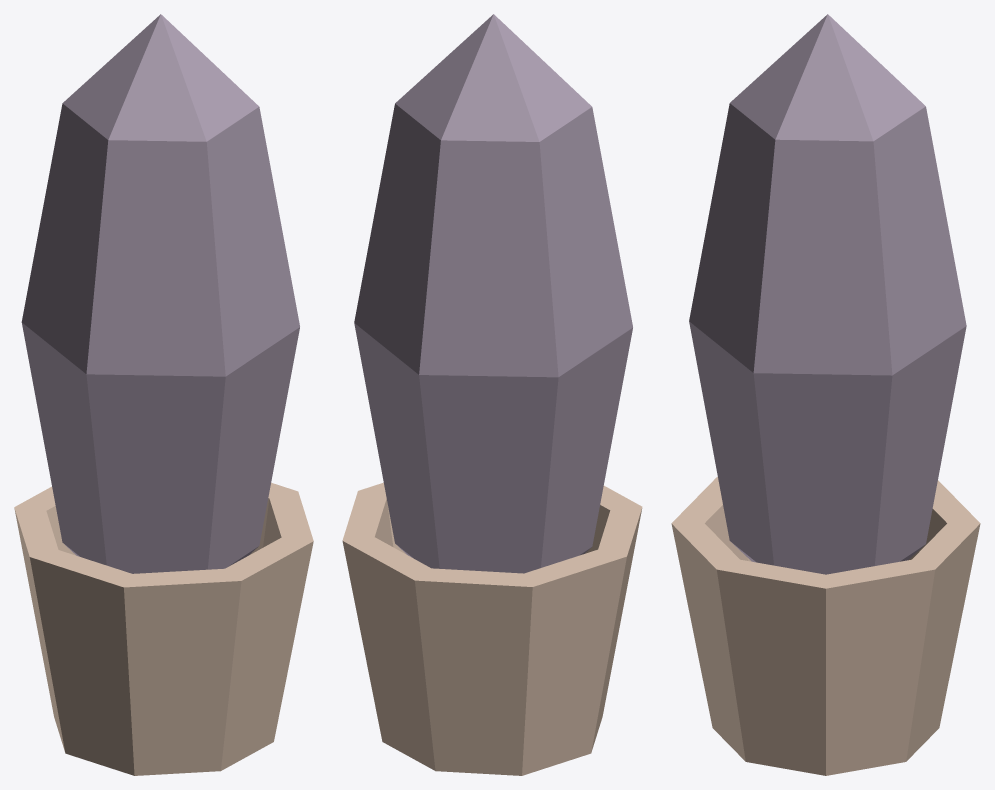
Rendered from plantTextured.fbx.
The picture shows the model from 3 angles, left to right: view 1: azimuth 30°, elevation 25°; view 2: azimuth 150°, elevation 25°; view 3: azimuth 270°, elevation 25°; orthographic projection.
Parts seen in each view (by area): view 1: pSphere2, pPipe4; view 2: pSphere2, pPipe4; view 3: pSphere2, pPipe4.
Boxes of the visible parts, x1,y1,x2,y2 form: pSphere2: (21,14,299,573); pPipe4: (14,482,313,775); pSphere2: (354,14,632,573); pPipe4: (342,482,642,775); pSphere2: (689,14,966,574); pPipe4: (671,477,980,775).
Size of the model in its own units: 6.35 by 16.16 by 6.35.
